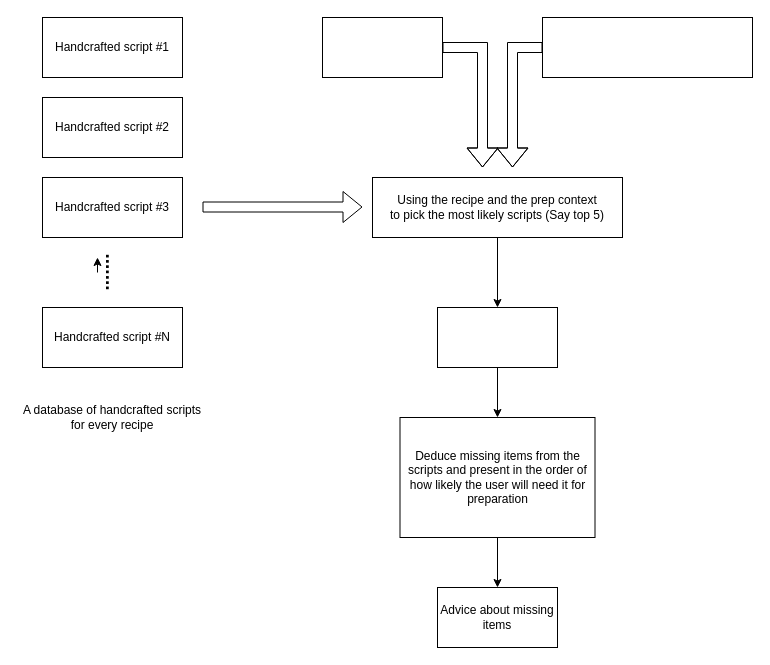
Some shapes in this 770 by 665 pixel diagram are drawn without their labels. The shapes that lost their labels are listed below. From the top down, each one's box as (x1, y1, x2, y2) in pixels, then its label:
(322, 16, 442, 78): recipe description
(542, 16, 752, 78): Preparation Context Description (Assume home as default)
(436, 306, 558, 368): List of most probable scripts
